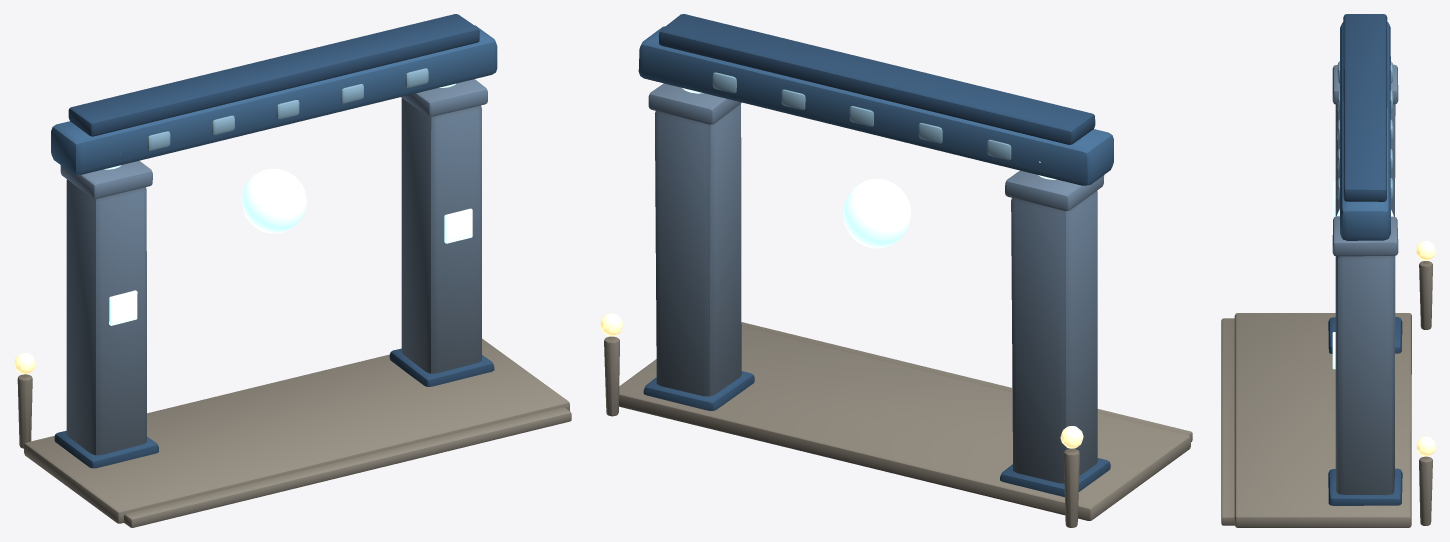
3 views of the same model, side by side, from view 1: azimuth 30°, elevation 25°; view 2: azimuth 150°, elevation 25°; view 3: azimuth 270°, elevation 25° (orthographic). The views are drawn at different scales.
Parts seen in each view (by area): view 1: gate_4b07607f; view 2: gate_4b07607f; view 3: gate_4b07607f.
Part boxes in pixels (x1,y1,x2,y2): gate_4b07607f: (14, 14, 571, 527); gate_4b07607f: (600, 14, 1192, 527); gate_4b07607f: (1221, 14, 1435, 527).
Bounding box in the file's own units: 5.76 × 4.27 × 2.55.
